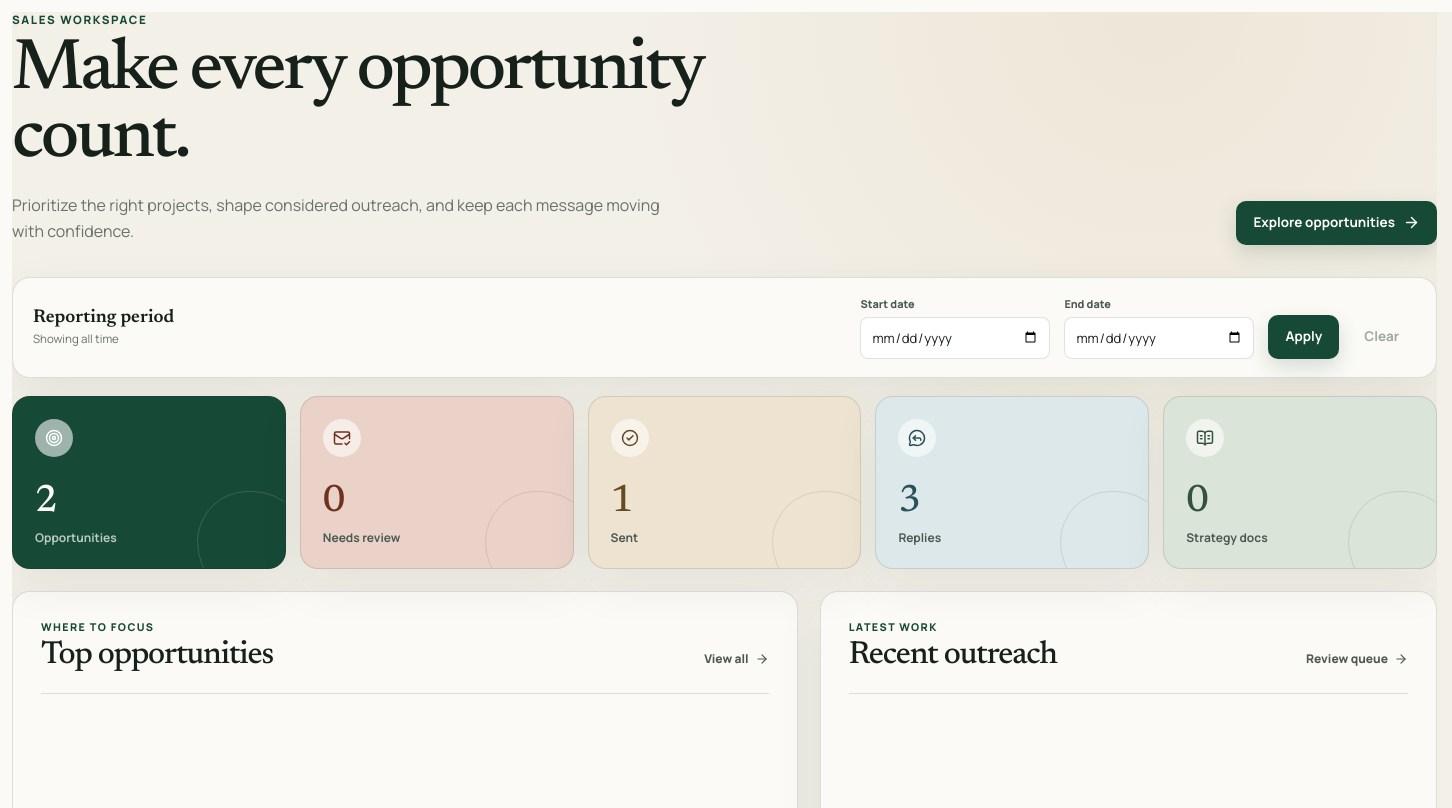
Test: OverviewPage › validates complete ordered ranges without issuing another request
Expected: the element named "Opportunities: 2" is shown, [12, 396, 286, 569]
In the date field labelled "Start date": point(955, 338) [860, 317, 1050, 359], type "2026-07-20"
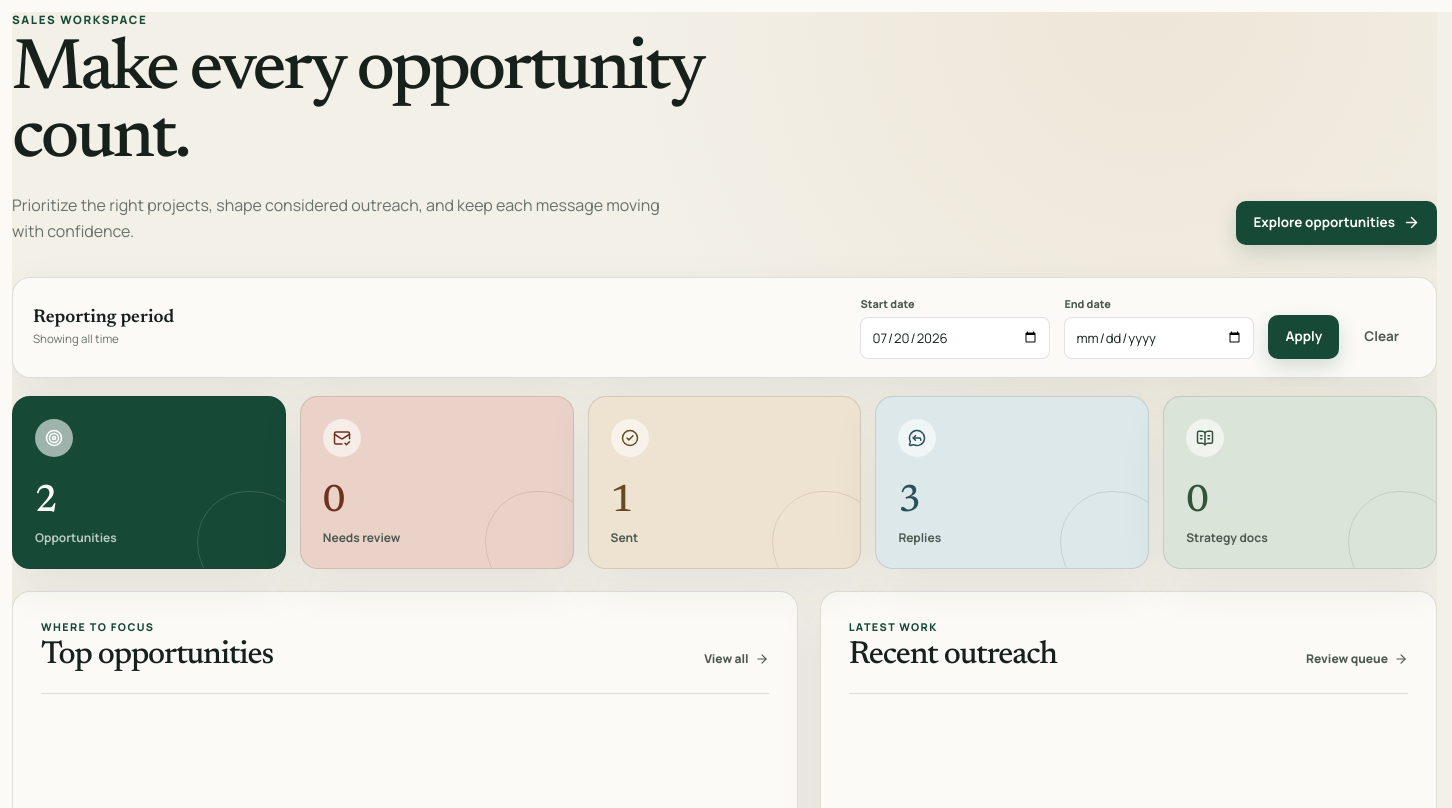
Click the button "Apply": point(1304, 337) [1268, 315, 1339, 359]
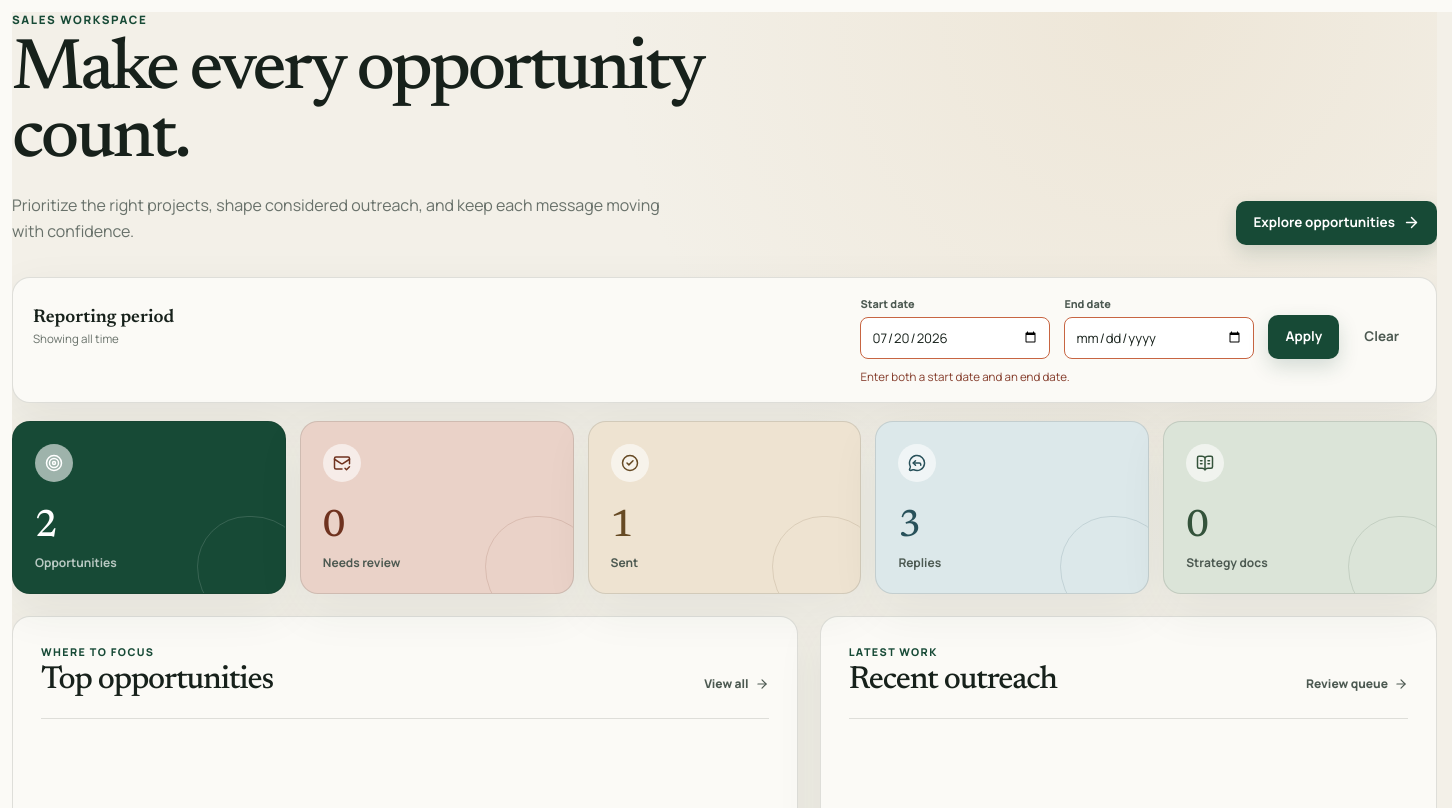
Now the message reads "Enter both a start date and an end date.", box [860, 369, 1070, 384]
In the date field labelled "End date": point(1159, 338) [1064, 317, 1254, 359], type "2026-07-10"
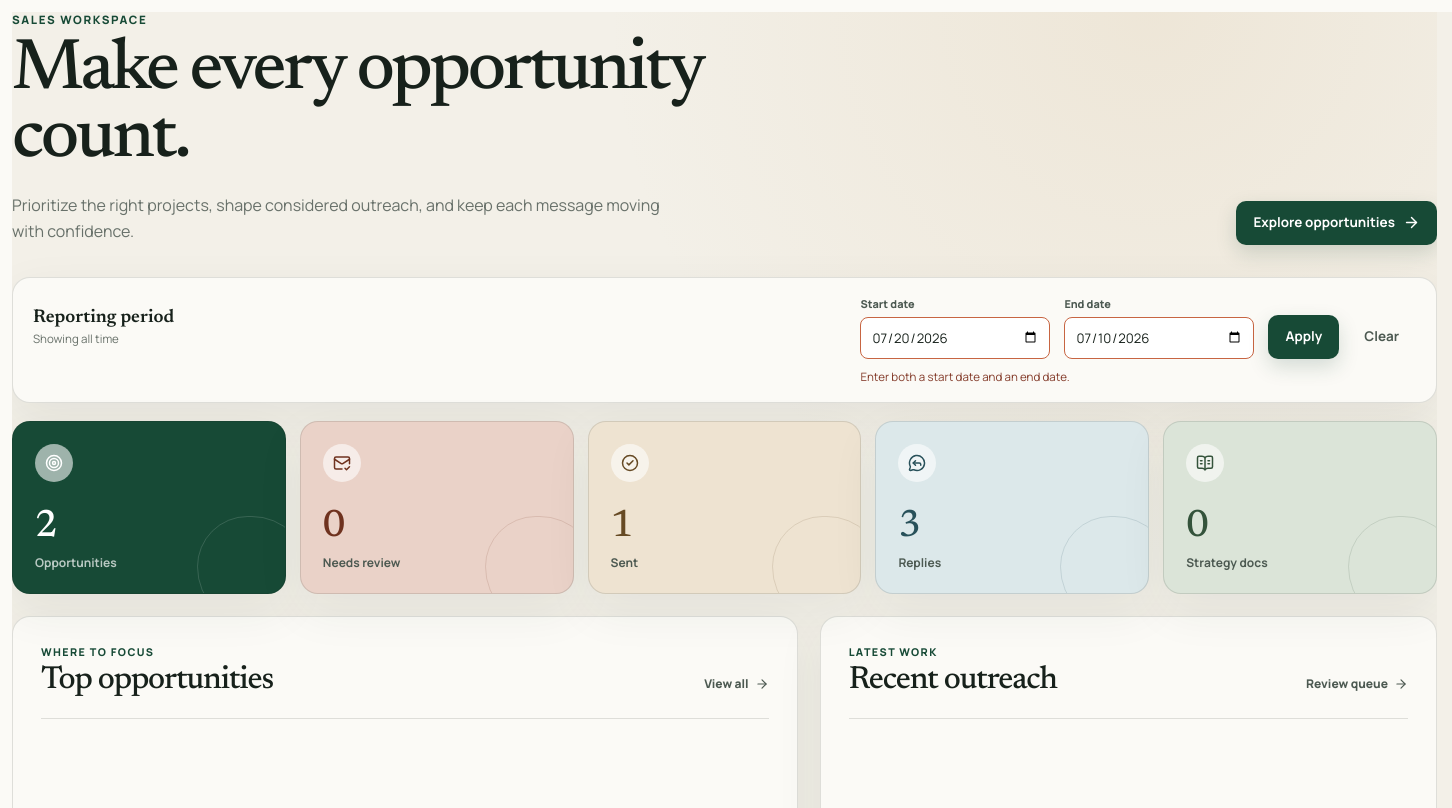
Click the button "Apply": point(1304, 337) [1268, 315, 1339, 359]
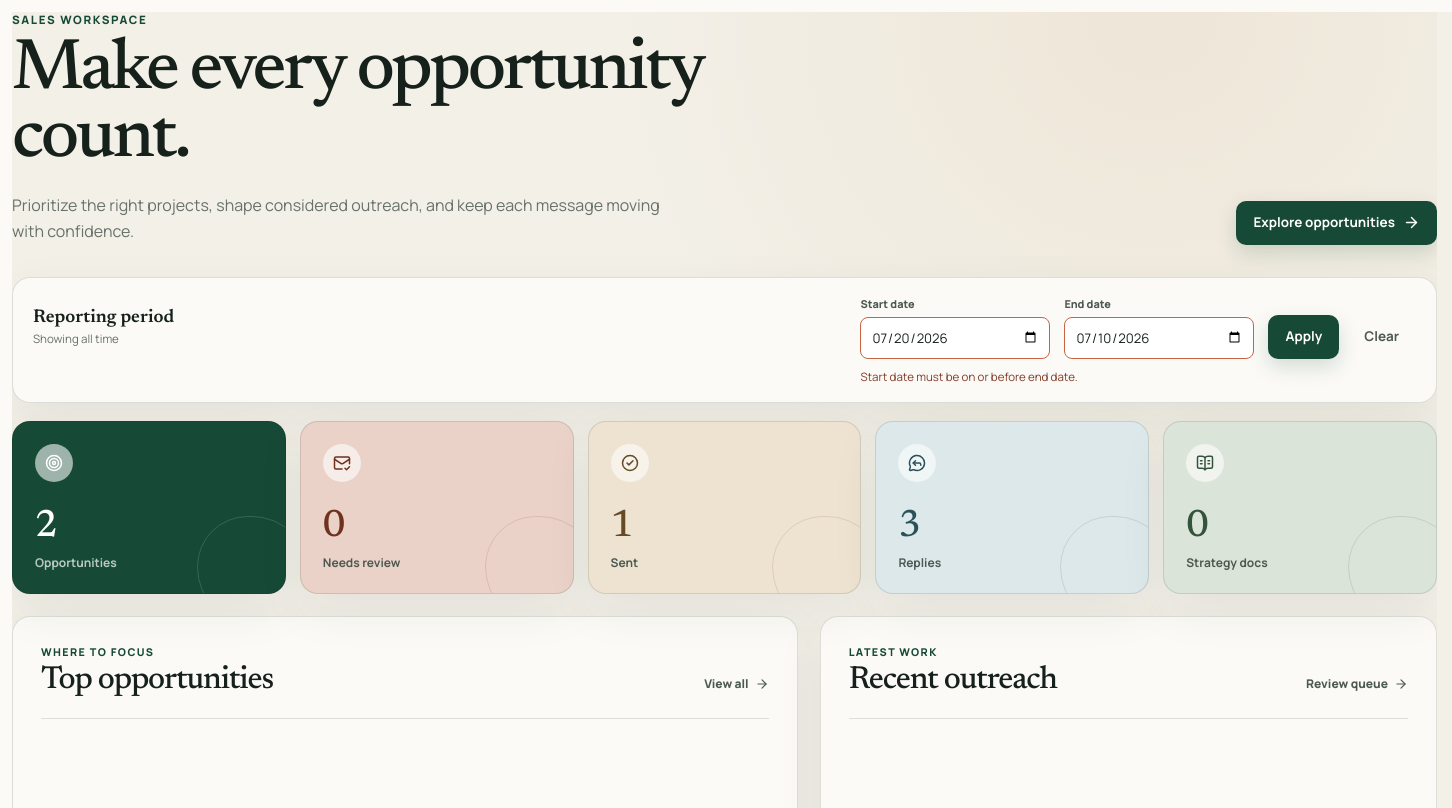
Now the message reads "Start date must be on or before end date.", box [860, 369, 1078, 384]
